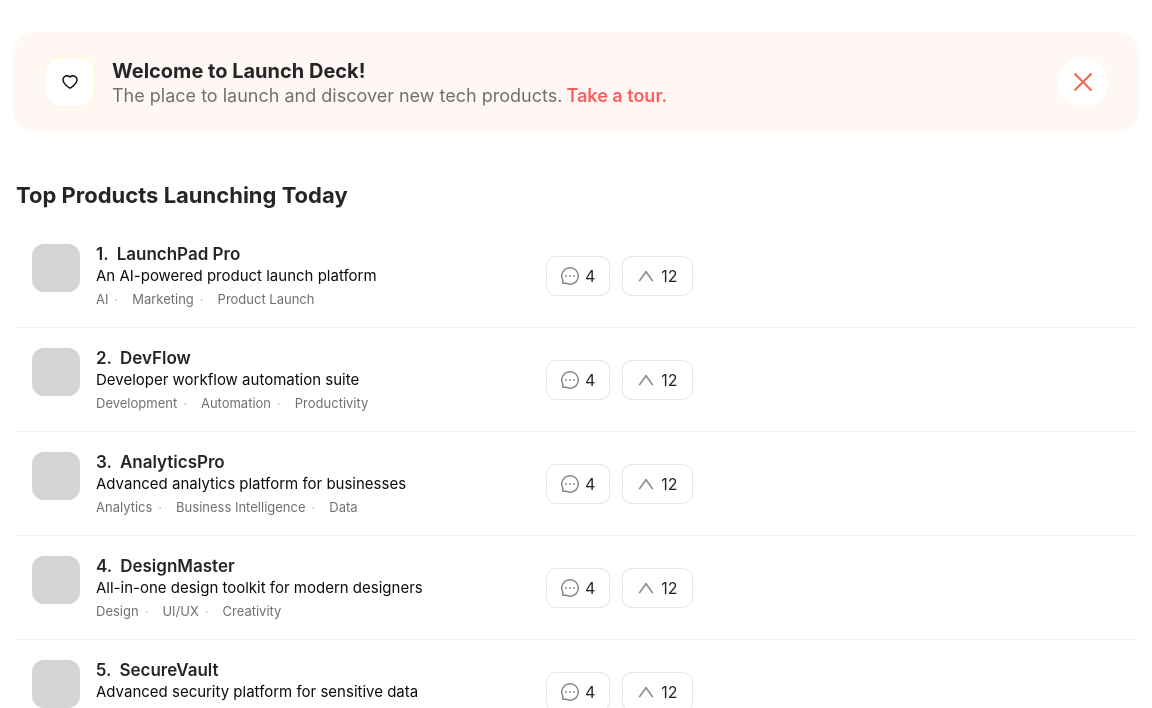
Test case: Home page integration › should show welcome banner initially and hide it when close button is clicked
Expected: the text "Welcome to Launch Deck!" is shown, [112,58,365,82]
Note: Click close button
Click the button with test id "welcome-banner-close": x=1083, y=82 [1058,57,1108,107]
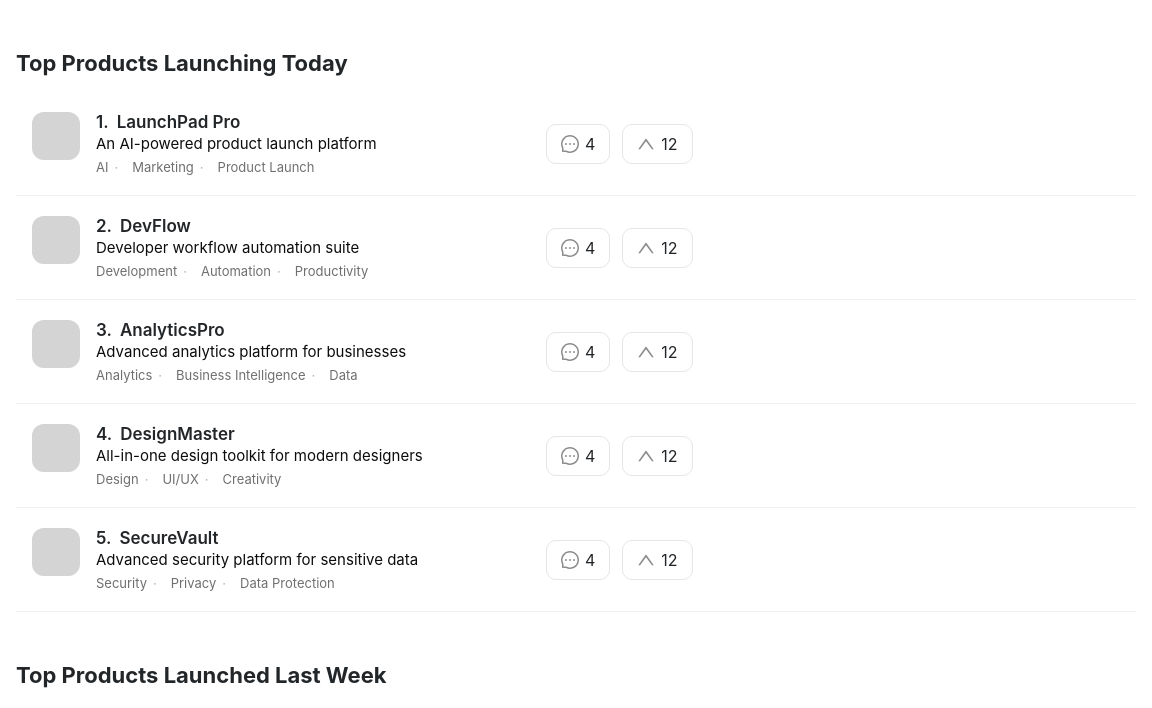
Result: the text "Welcome to Launch Deck!" is gone
Result: the button with test id "welcome-banner-close" is gone
